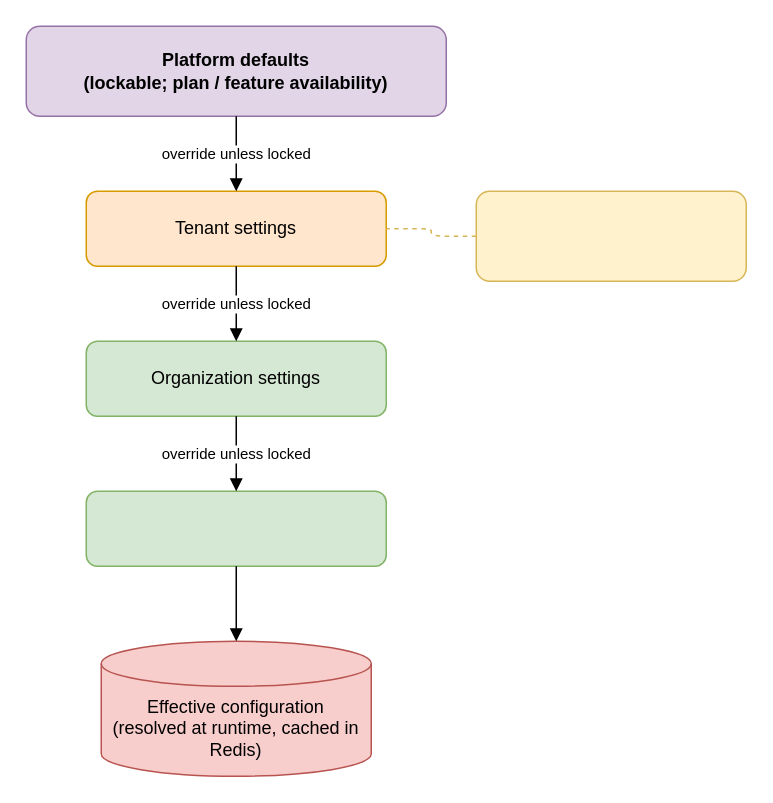
Some shapes in this 773 by 803 pixel diagram are drawn without their labels. Each missing label, with the centre of its shape:
Application settings: (x=235, y=528)
🔒 A locked setting stops here — lower layers cannot override: (x=610, y=235)
